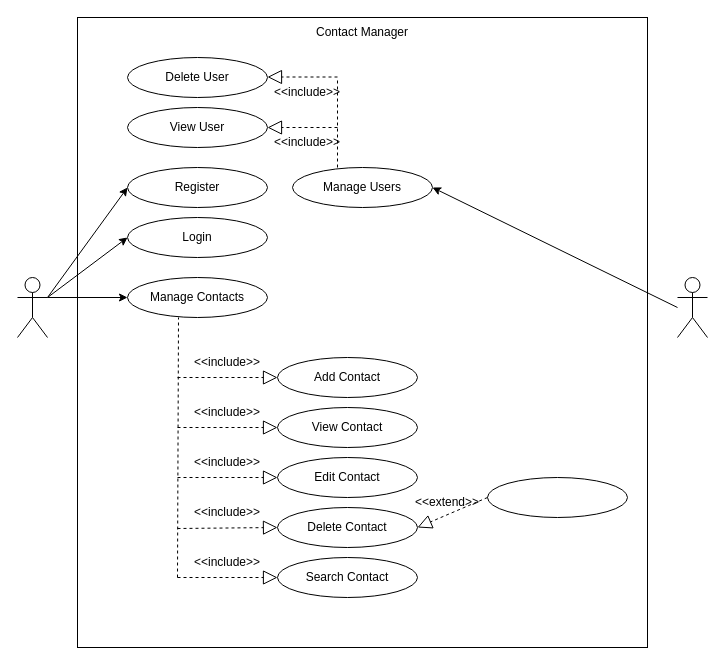
This 727x665 diagram has some shape labels left out. The box of each missing label's shape, as (x1, y1, x2, y2) in pixels:
Admin: (676, 276, 708, 338)
Delete Confirmation: (486, 476, 628, 518)
User: (16, 276, 48, 338)
